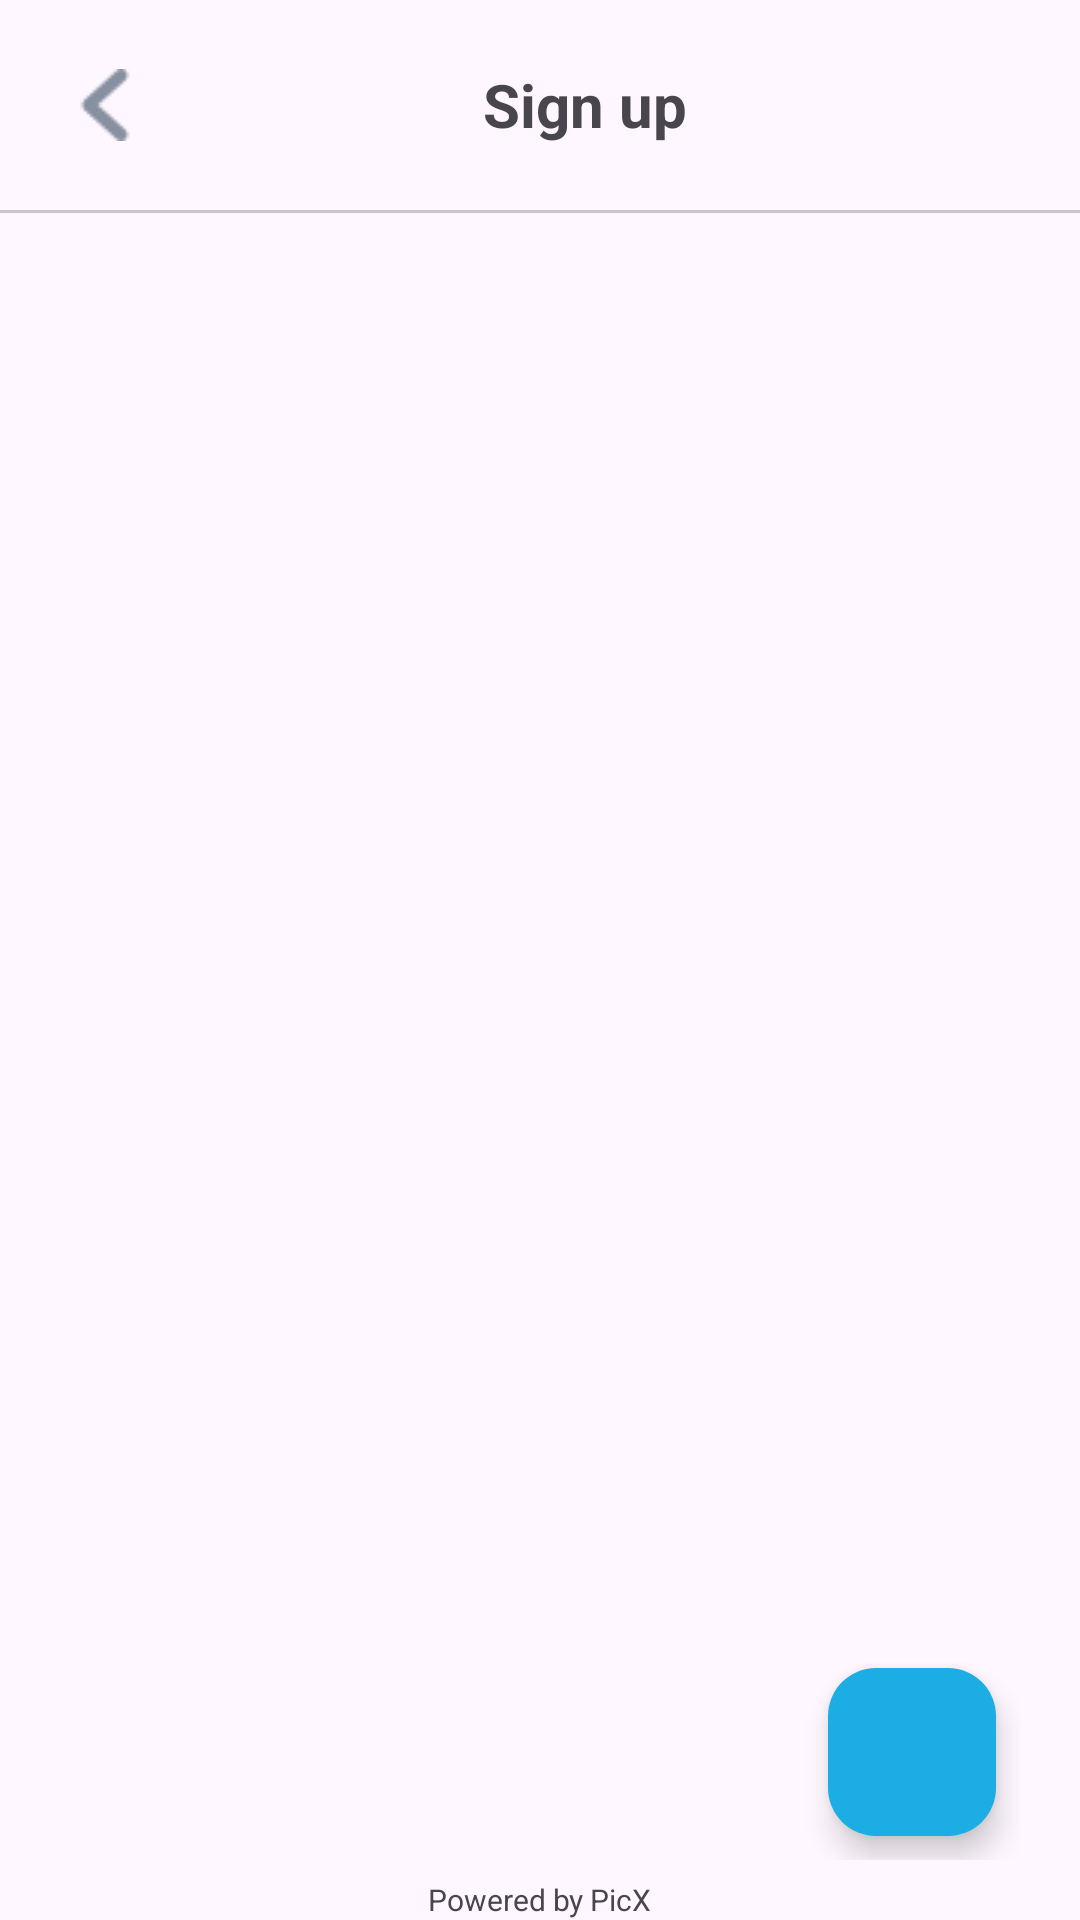

Screen size 1080*1920. Icon name, then its box in pixels as (x1, y1, x2, y2):
leftarrow: (81, 69, 129, 141)
